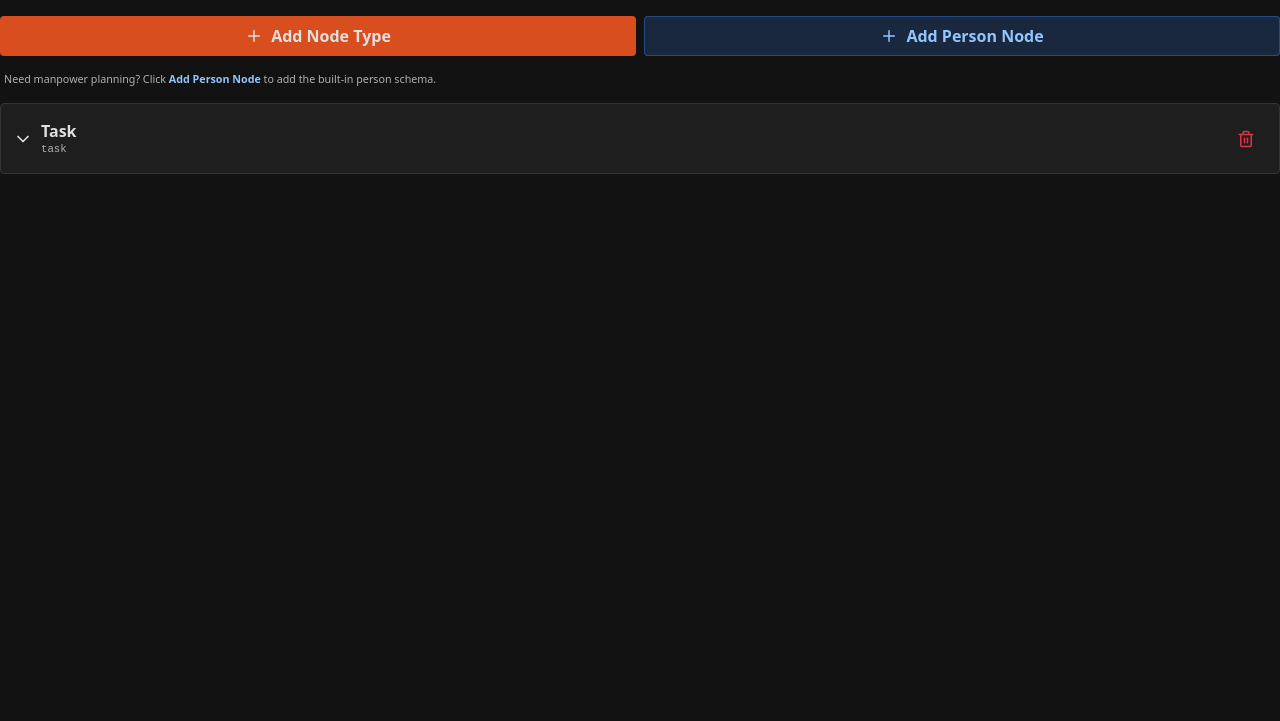
Scenario: NodeTypeEditor › creates a valid default option when a property is switched to select
Click the heading "Task" at (59, 131), box top-left (41, 120), bottom-right (76, 142)
(page scrolled)
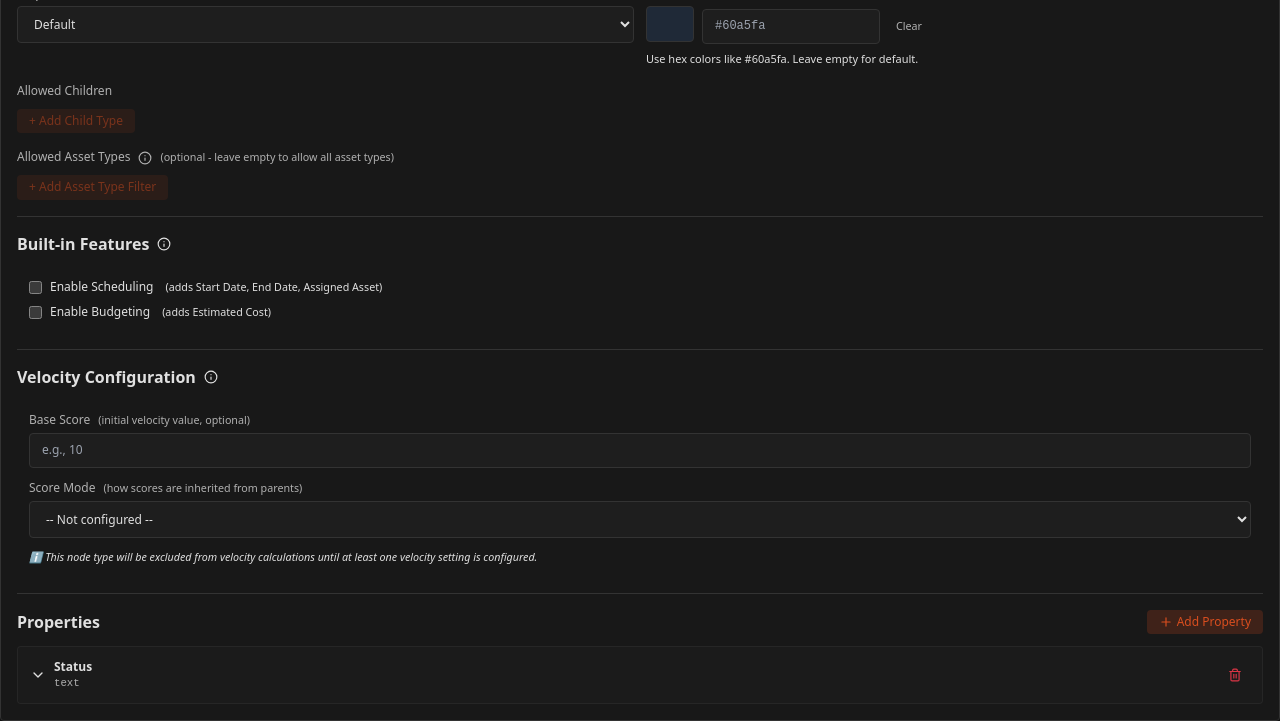
Click the heading "Status" at (73, 668), box top-left (54, 660), bottom-right (92, 676)
(page scrolled)
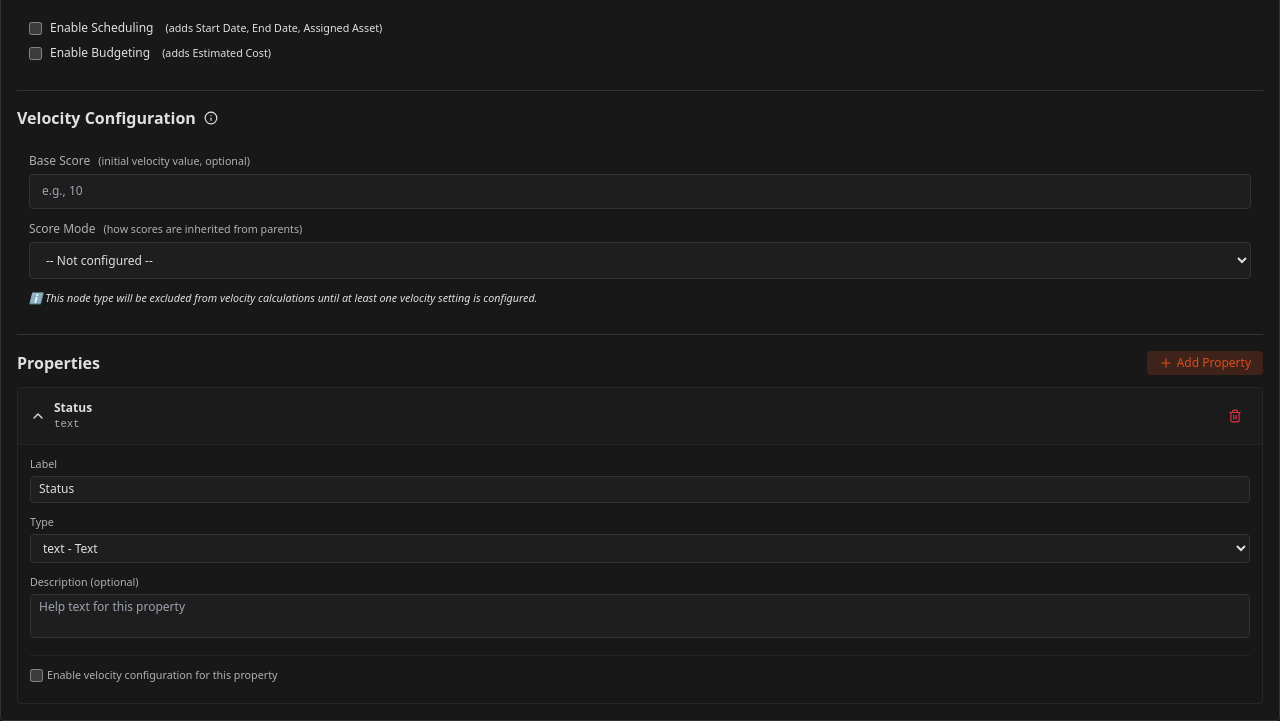
Select "select - Select" in the dropdown showing "text - Text" below "text" at (640, 549), box top-left (30, 534), bottom-right (1250, 563)
(page scrolled)
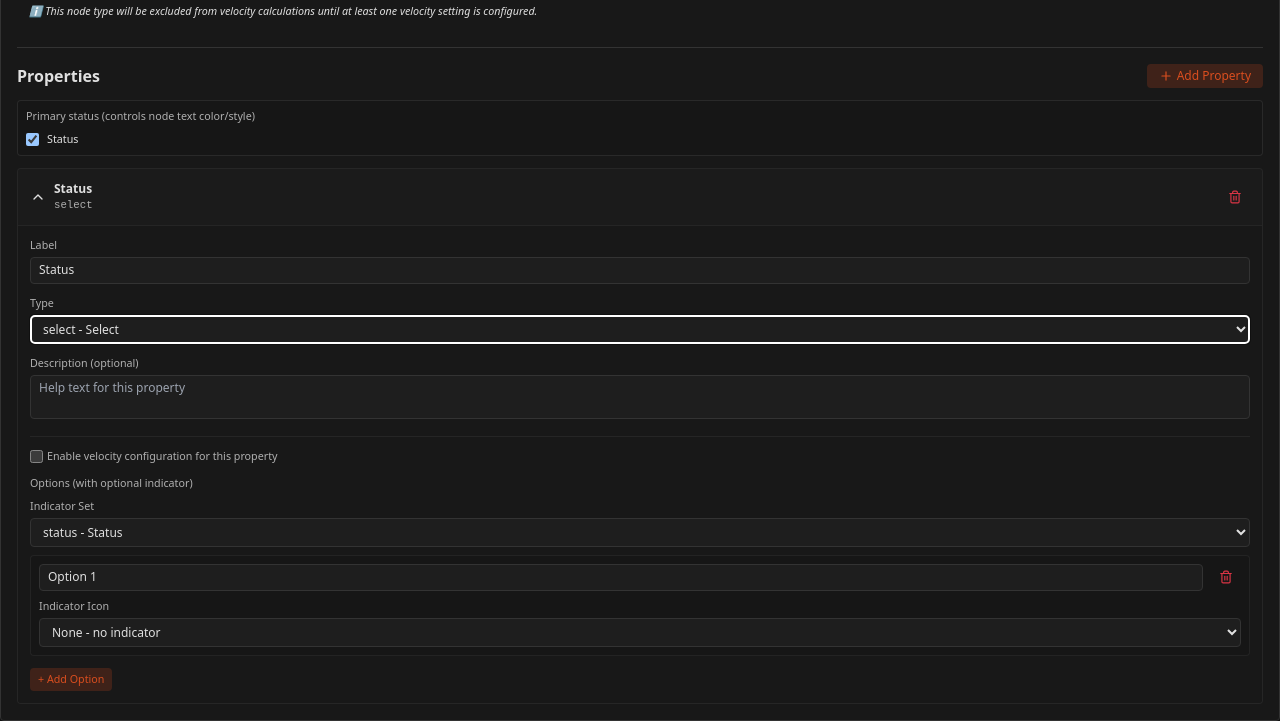
Expected: the field showing "Option 1" below "Indicator Set" is shown, top-left (39, 564), bottom-right (1203, 591)
